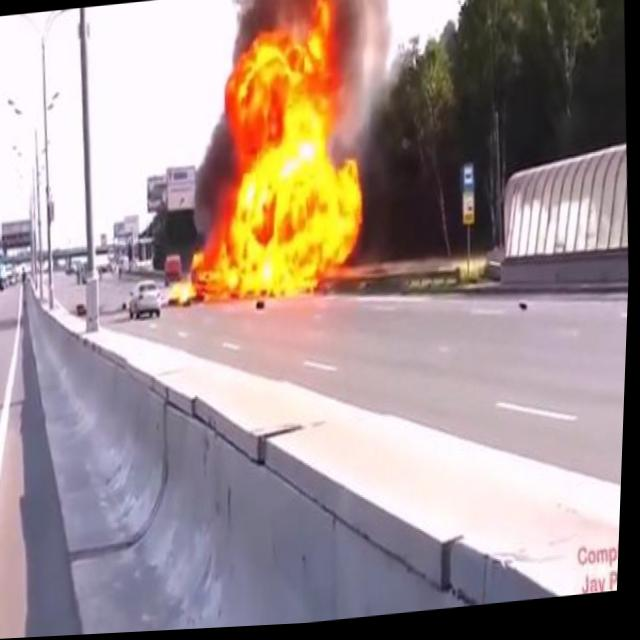fire: (155, 0, 379, 313)
